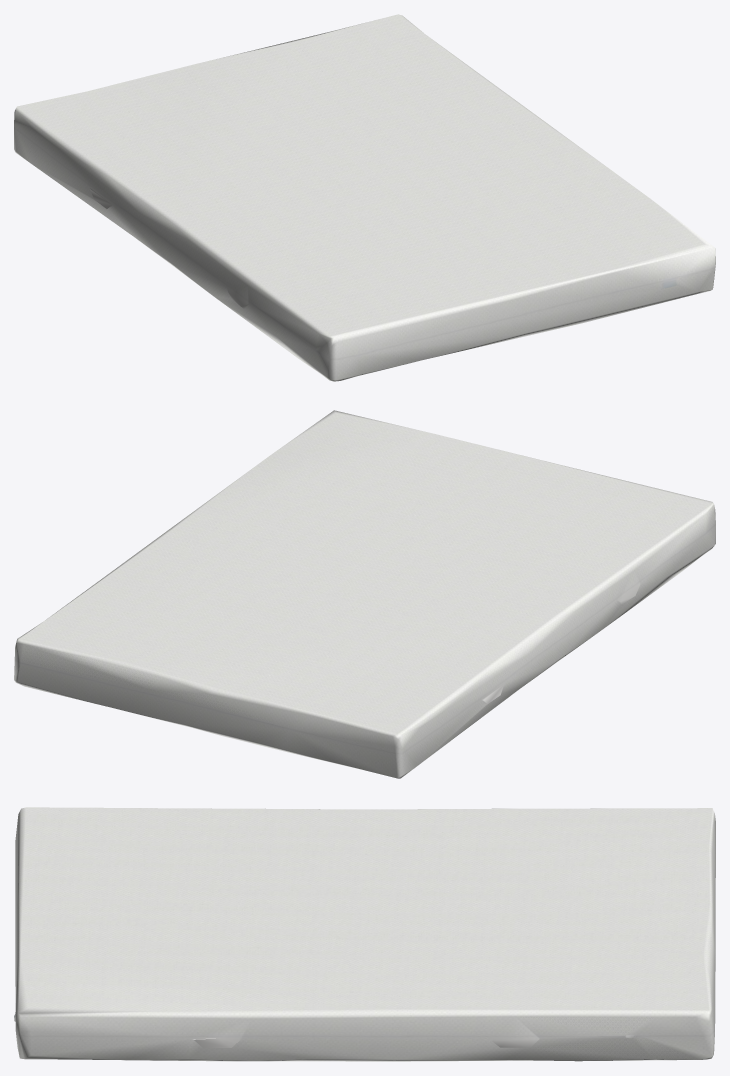
The picture shows the model from 3 angles, top to bottom: view 1: azimuth 30°, elevation 25°; view 2: azimuth 150°, elevation 25°; view 3: azimuth 270°, elevation 25°; orthographic projection. The views are drawn at different scales.
Parts seen in each view (by area): view 1: model; view 2: model; view 3: model.
Part boxes in pixels (x1=…): model: x1=14, y1=14, x2=715, y2=381; model: x1=14, y1=410, x2=715, y2=778; model: x1=14, y1=807, x2=715, y2=1061.
Bounding box in the file's own units: 1.42 × 0.1634 × 2.
1 material, 1 textured.
